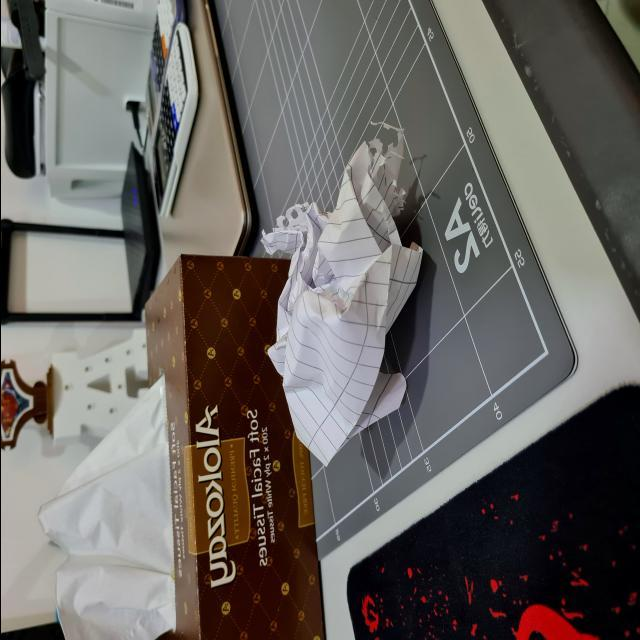Paper: (222, 119, 463, 471)
